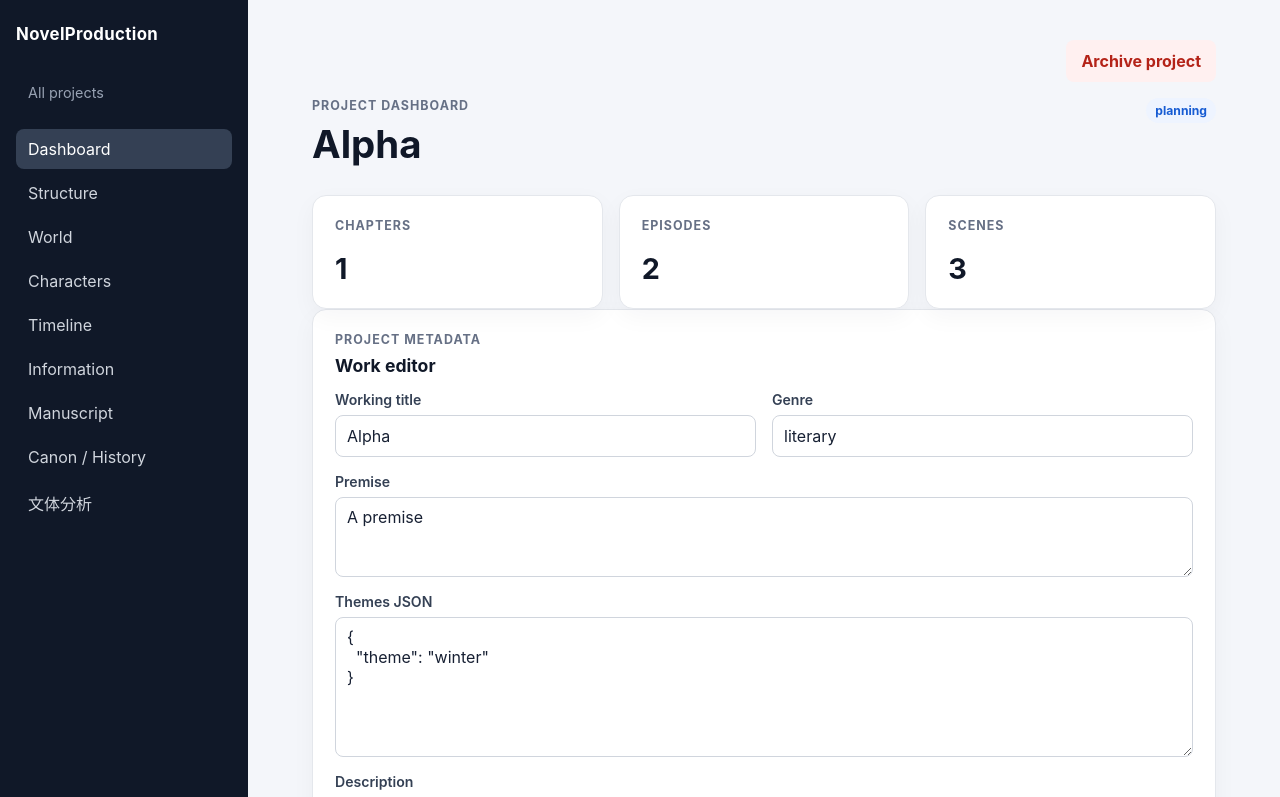
Test: Work editor › keeps edits local until explicit Save and sends only changed fields
The width and height of the screenshot is (1280, 797).
Replace the text in the field labelled "Genre" with "mystery" at (982, 436), box [772, 415, 1193, 457]
(page scrolled)
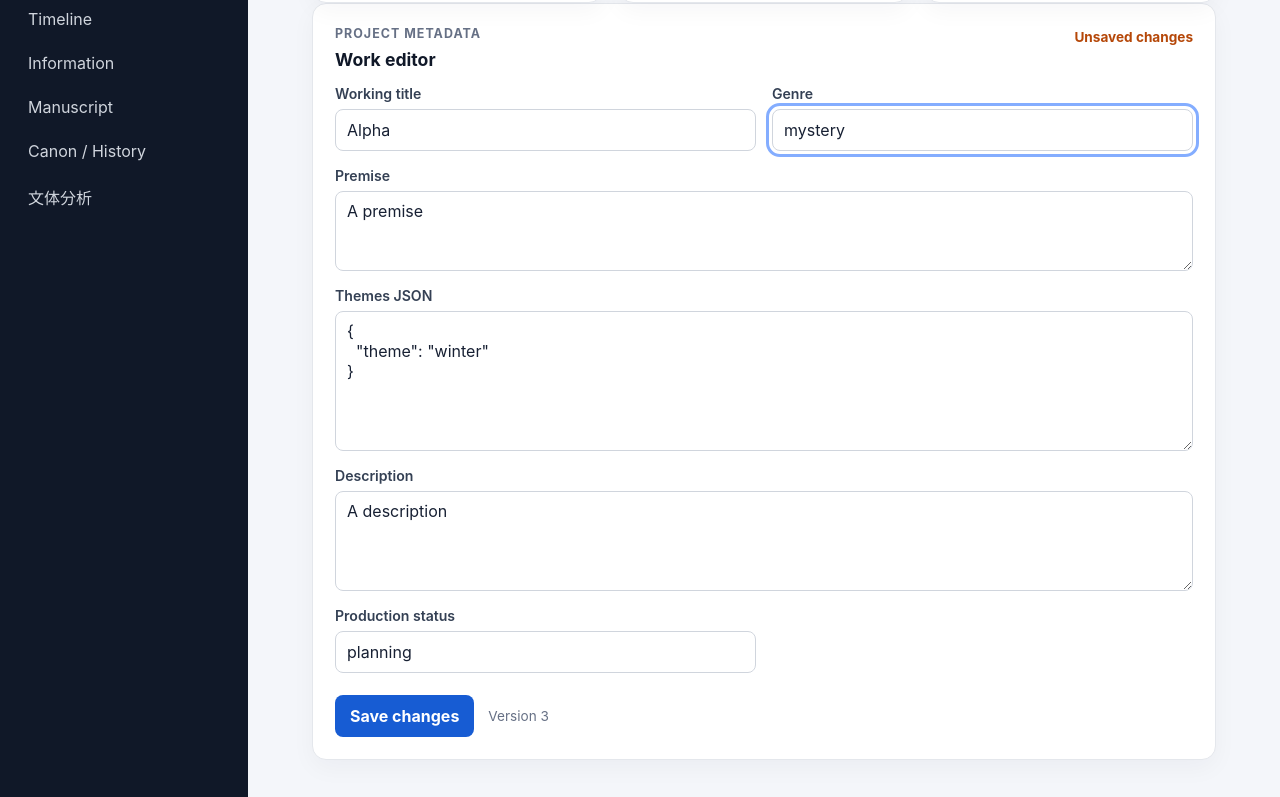
Now the text "Unsaved changes" is shown, box [1074, 29, 1193, 45]
Click the button "Save changes" at (405, 716), box [335, 695, 474, 737]
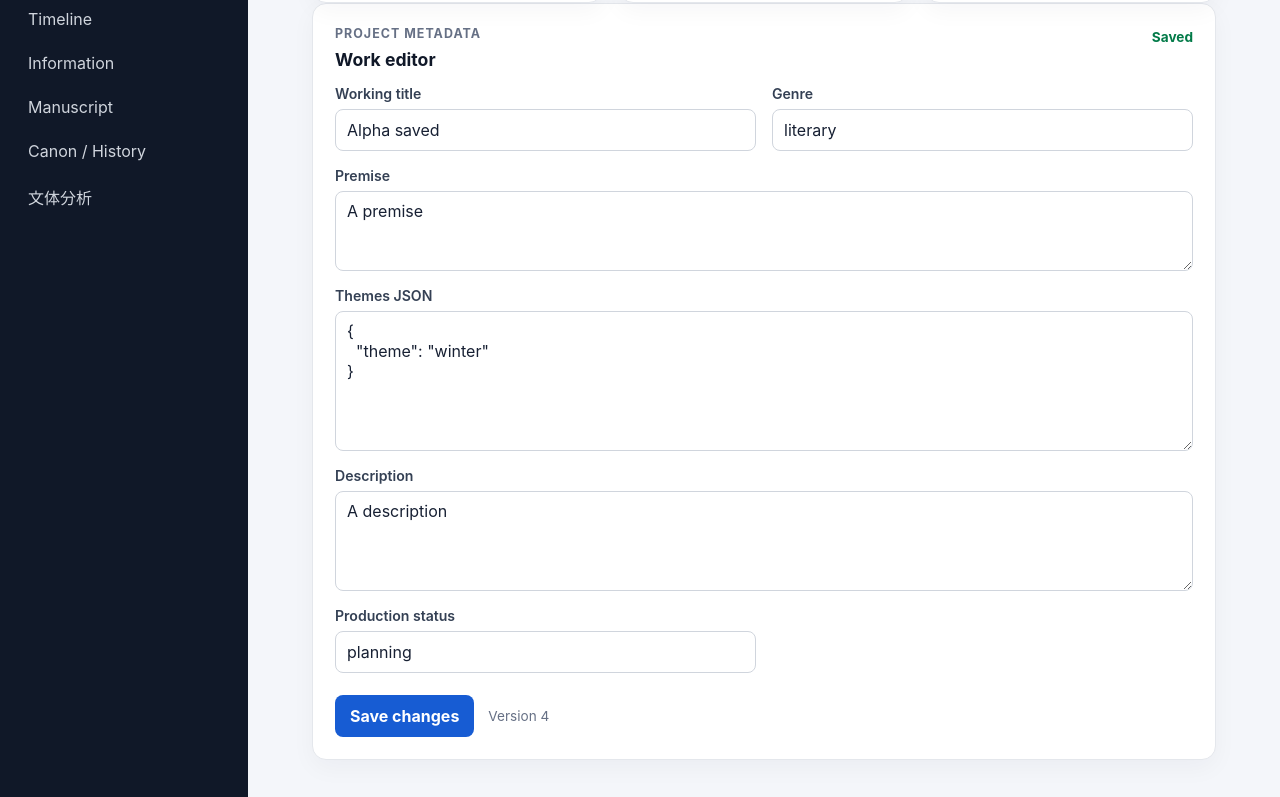
Now the text "Unsaved changes" is gone
